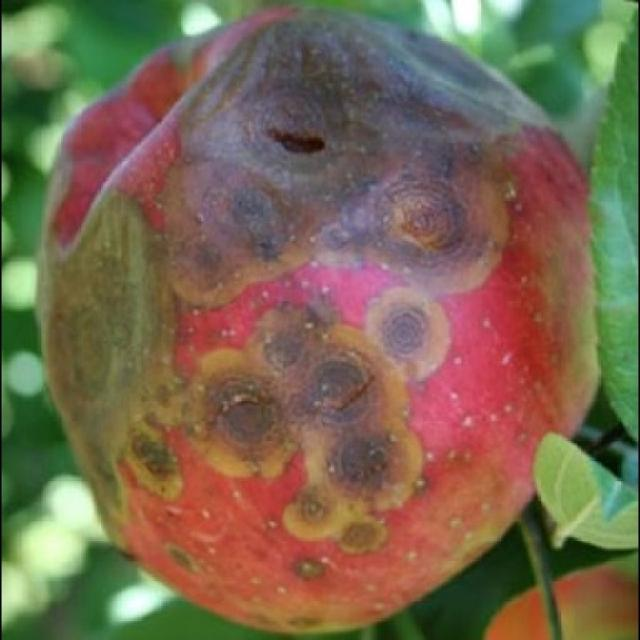Rotten Apple: (32, 8, 603, 630)
